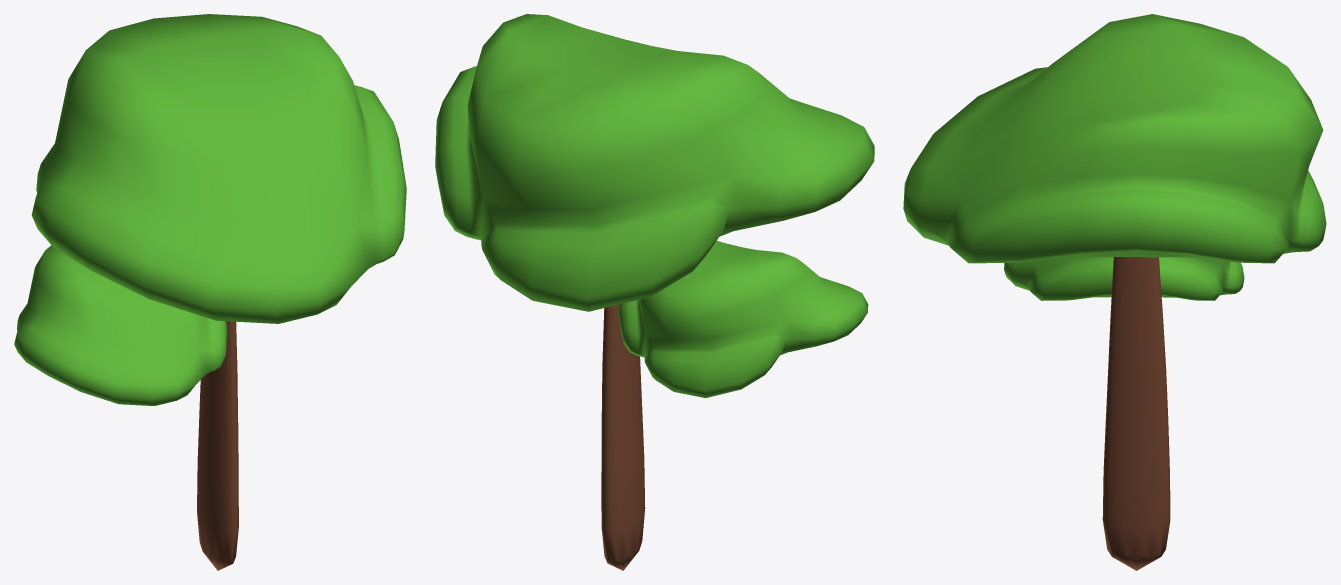
The model's file is pohon1.glb.
3 views of the same model, side by side, from view 1: azimuth 30°, elevation 25°; view 2: azimuth 150°, elevation 25°; view 3: azimuth 270°, elevation 25° (orthographic). The views are drawn at different scales.
Visible parts, largest first — view 1: Cube.808; view 2: Cube.808; view 3: Cube.808.
Part boxes in pixels (left/top/right/bottom): Cube.808: left=14, top=14, right=406, bottom=570; Cube.808: left=435, top=14, right=874, bottom=570; Cube.808: left=903, top=14, right=1326, bottom=570.
Bounding box in the file's own units: 5.87 × 7.77 × 5.85.
